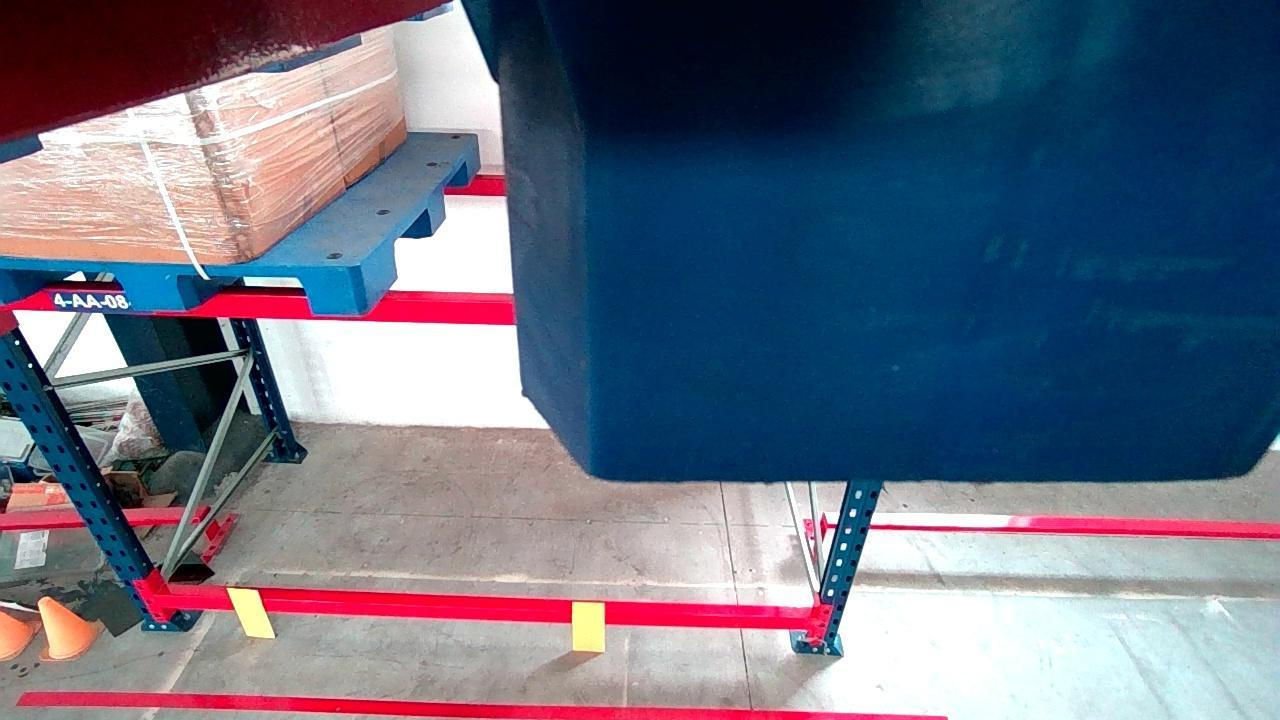h_rack: (155, 592, 812, 629), (4, 292, 513, 324)
orange_strip: (229, 589, 272, 636), (573, 601, 605, 650)
red_line: (16, 692, 947, 718)
small_pallet: (2, 258, 363, 313)
